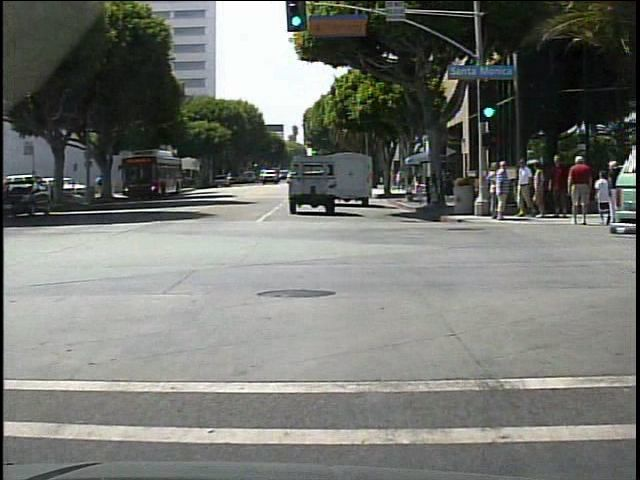person: (567, 154, 592, 230), (552, 151, 573, 220), (608, 162, 628, 226), (594, 165, 614, 224), (517, 158, 536, 218), (531, 162, 548, 221), (495, 160, 511, 222), (488, 162, 501, 220), (101, 176, 112, 201), (95, 175, 104, 198), (396, 170, 404, 193)
